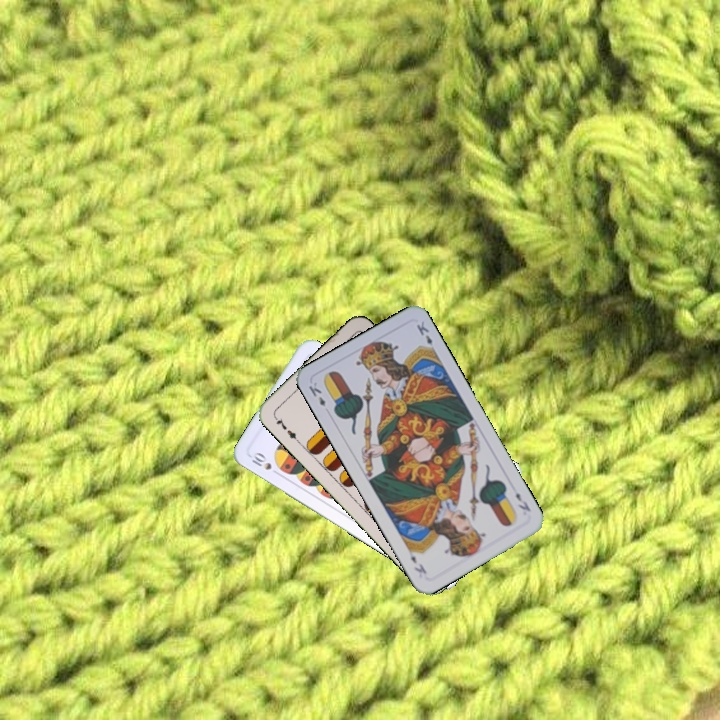E7: (270, 412, 302, 445)
EK: (305, 378, 328, 409), (511, 488, 533, 514)
S10: (248, 448, 274, 473)
